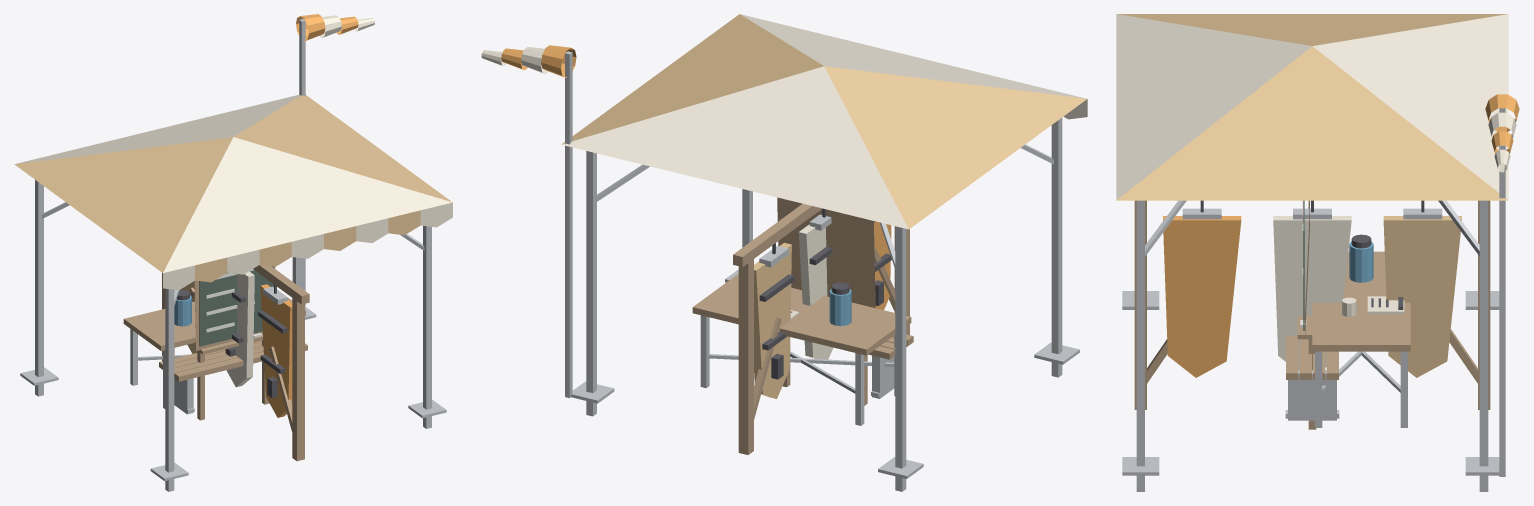
Rendered from rue_field.glb.
3 views of the same model, side by side, from view 1: azimuth 30°, elevation 25°; view 2: azimuth 150°, elevation 25°; view 3: azimuth 270°, elevation 25° (orthographic). The views are drawn at different scales.
Parts seen in each view (by area): view 1: rf_canopy_mesh, rf_rack_mesh, rf_chalk_mesh, rf_bench_mesh; view 2: rf_canopy_mesh, rf_rack_mesh, rf_chalk_mesh, rf_bench_mesh; view 3: rf_canopy_mesh, rf_rack_mesh, rf_bench_mesh, rf_chalk_mesh.
Part boxes in pixels (left/top/right/bottom): rf_canopy_mesh: left=14, top=14, right=452, bottom=491; rf_rack_mesh: left=162, top=265, right=309, bottom=461; rf_chalk_mesh: left=194, top=266, right=275, bottom=420; rf_bench_mesh: left=159, top=340, right=307, bottom=414; rf_canopy_mesh: left=481, top=14, right=1087, bottom=491; rf_rack_mesh: left=733, top=204, right=909, bottom=454; rf_chalk_mesh: left=777, top=197, right=875, bottom=405; rf_bench_mesh: left=868, top=334, right=913, bottom=398; rf_canopy_mesh: left=1116, top=14, right=1519, bottom=491; rf_rack_mesh: left=1134, top=200, right=1490, bottom=409; rf_bench_mesh: left=1285, top=336, right=1339, bottom=420; rf_chalk_mesh: left=1297, top=200, right=1316, bottom=429.
Bounding box in the file's own units: 4.43 × 3.63 × 3.29.
